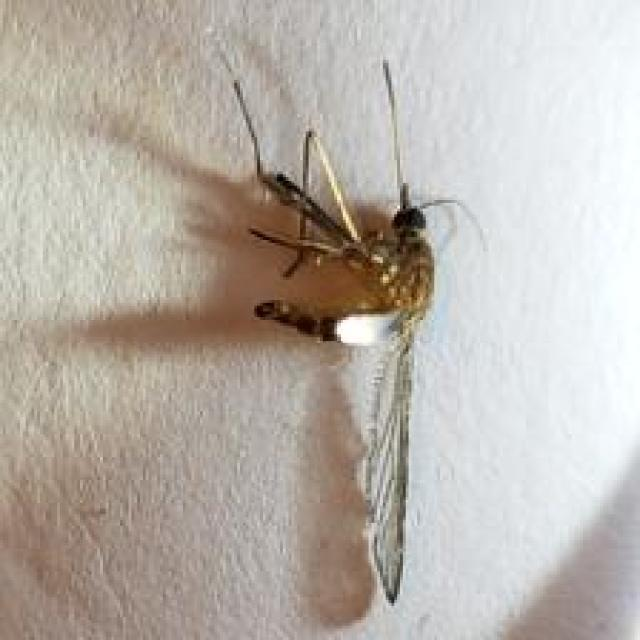Culex: (219, 51, 487, 606)
